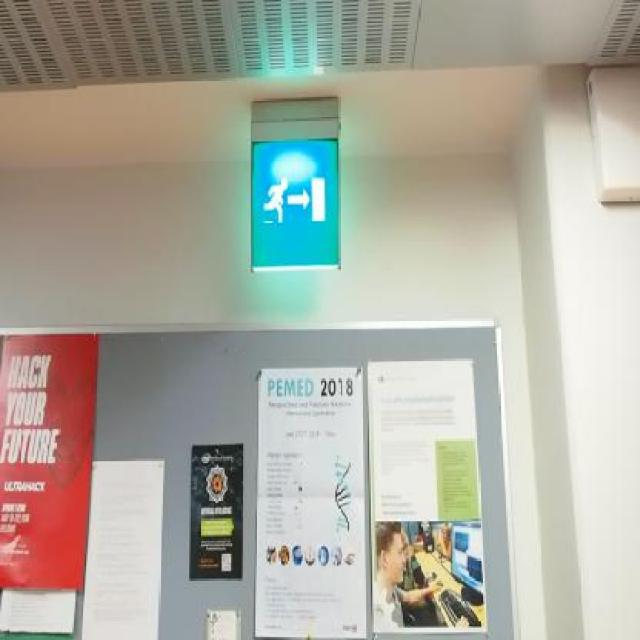person: (238, 74, 358, 307)
